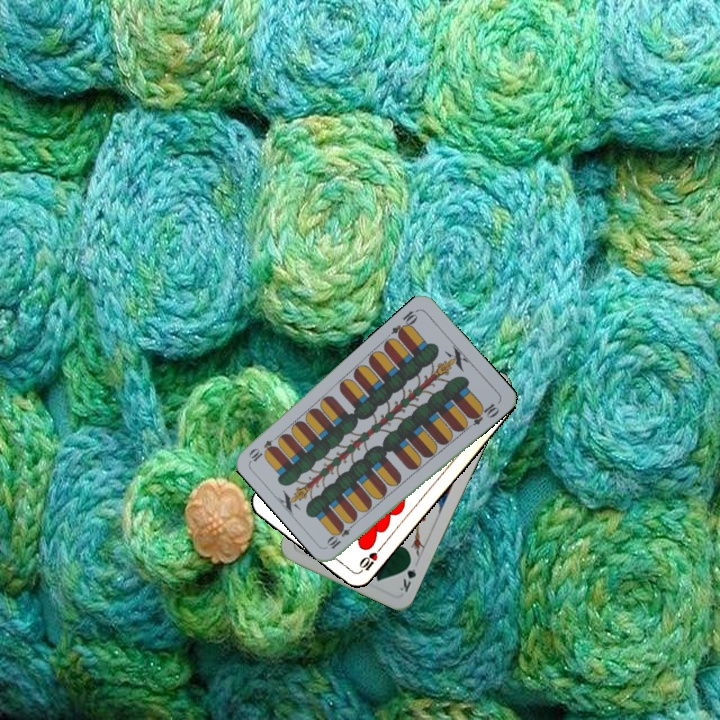E10: (387, 305, 421, 341), (324, 518, 358, 552)
GK: (396, 555, 419, 595)
H10: (355, 542, 385, 576)
